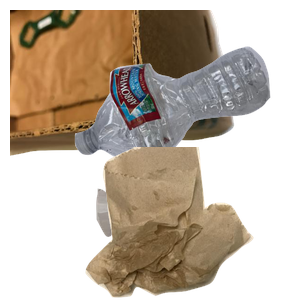cardboard: (10, 10, 237, 158)
glass: (94, 184, 253, 300)
plastic: (72, 44, 300, 200)
trash: (83, 147, 300, 300)
